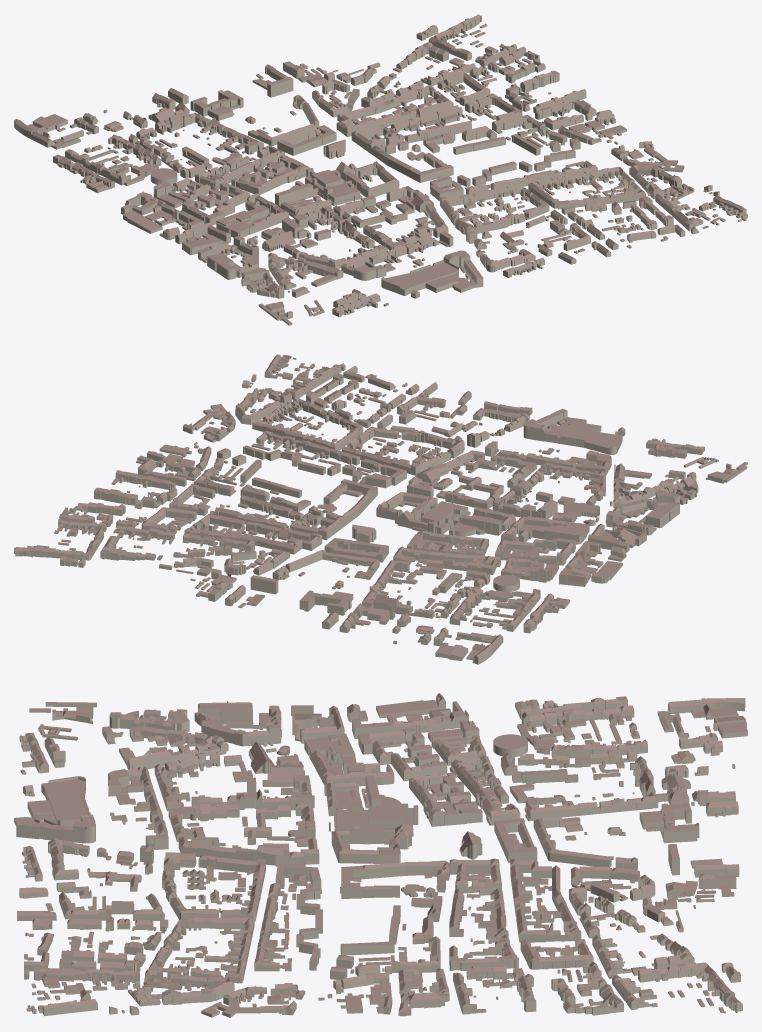
The picture shows the model from 3 angles, top to bottom: view 1: azimuth 30°, elevation 25°; view 2: azimuth 150°, elevation 25°; view 3: azimuth 270°, elevation 25°; orthographic projection. The views are drawn at different scales.
Parts seen in each view (by area): view 1: LoD2_32_321_5671_1_NW; view 2: LoD2_32_321_5671_1_NW; view 3: LoD2_32_321_5671_1_NW.
Part boxes in pixels (box(x1,y1,x2,y2)): LoD2_32_321_5671_1_NW: box(14, 14, 747, 325); LoD2_32_321_5671_1_NW: box(14, 354, 747, 664); LoD2_32_321_5671_1_NW: box(14, 693, 747, 1017).
Size of the model in its own units: 1019 by 46.27 by 1028.
